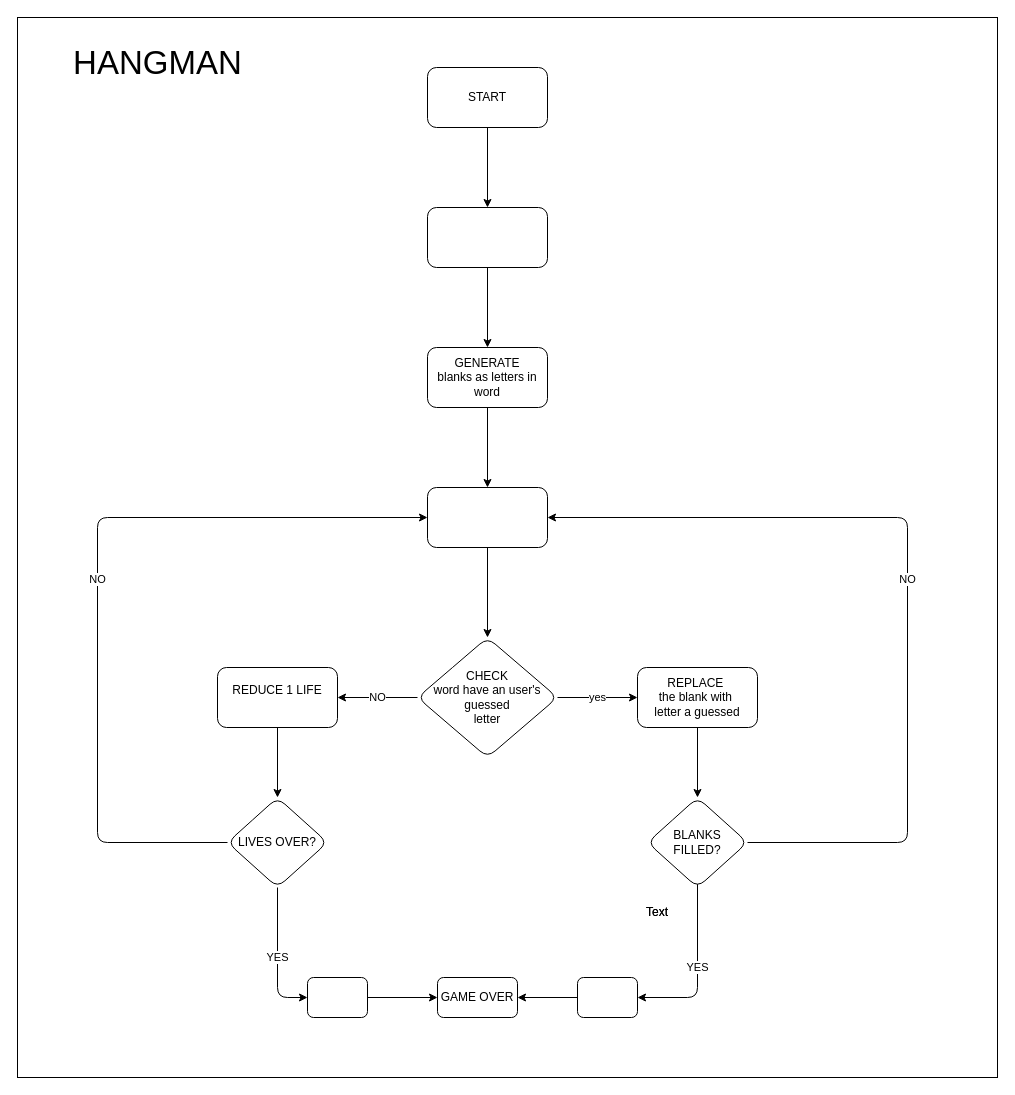
This 1015x1095 diagram has some shape labels left out. Here are the shapes that lost their labels. From the top down, the centre of each, then its label:
(x=487, y=237): GENERATE a random word
(x=487, y=517): TAKE INPUT from the user to guess a letter
(x=337, y=997): LOSE
(x=607, y=997): WIN
